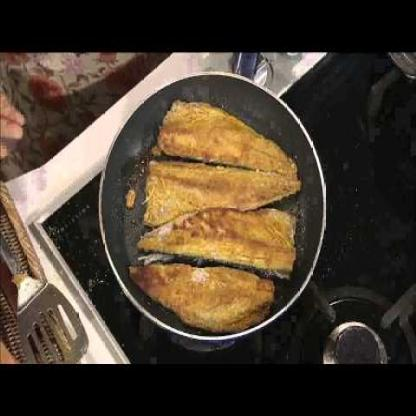Peixe: (126, 111, 308, 330)
